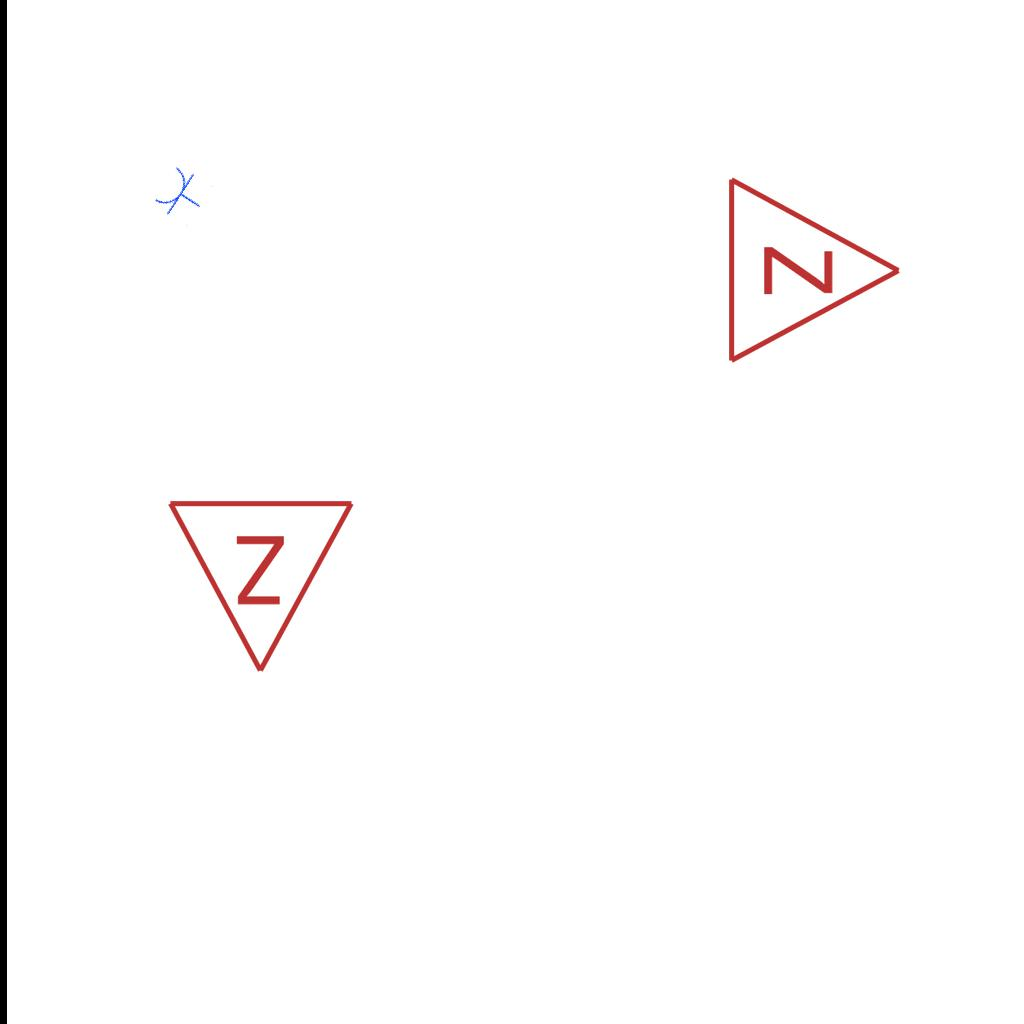Schukosteckdose_einfach: (150, 161, 214, 228)
Zimmersignalleuchte: (714, 170, 914, 366), (165, 486, 361, 686)
